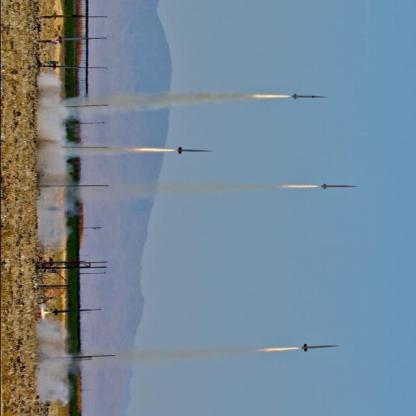MIL_TBM: (299, 343, 342, 351), (290, 93, 327, 99), (178, 148, 210, 154), (322, 185, 358, 189)
